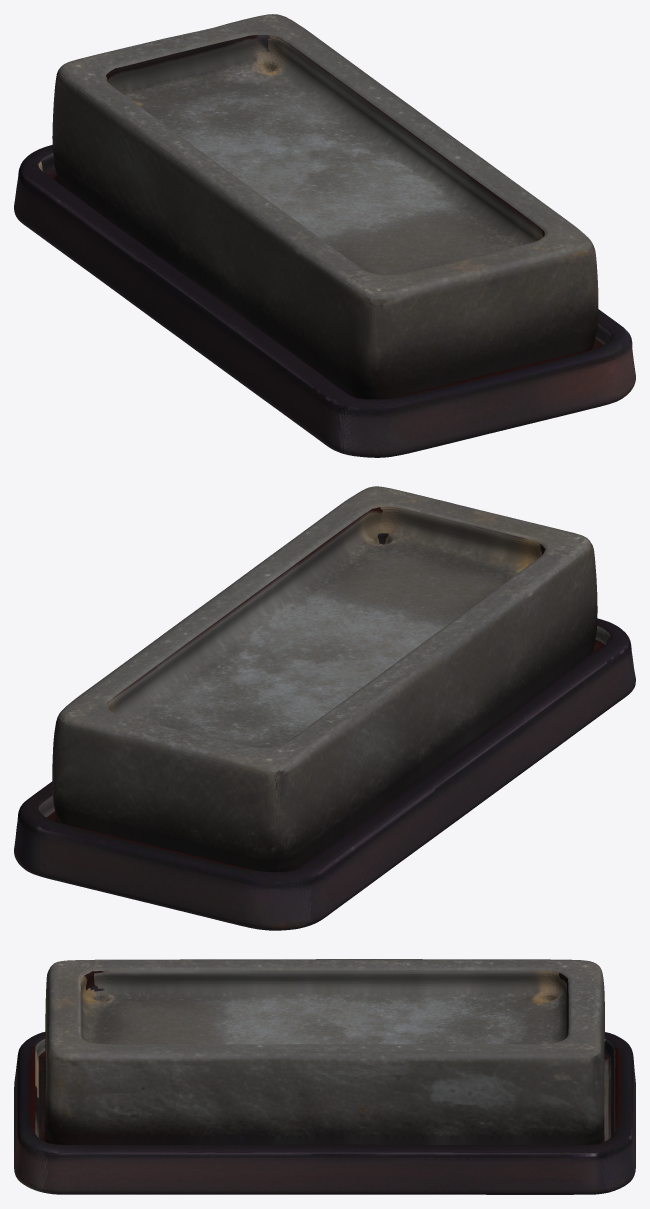
File: hoshi_inkstone.glb
The picture shows the model from 3 angles, top to bottom: view 1: azimuth 30°, elevation 25°; view 2: azimuth 150°, elevation 25°; view 3: azimuth 270°, elevation 25°; orthographic projection. The views are drawn at different scales.
Parts seen in each view (by area): view 1: temp_mesh.ply; view 2: temp_mesh.ply; view 3: temp_mesh.ply.
Part boxes in pixels (box(x1,y1,x2,y2)): temp_mesh.ply: box(14, 14, 635, 457); temp_mesh.ply: box(14, 486, 635, 930); temp_mesh.ply: box(14, 959, 635, 1194).
Size of the model in its own units: 0.9619 by 0.4446 by 1.97.
1 material, 1 textured.
